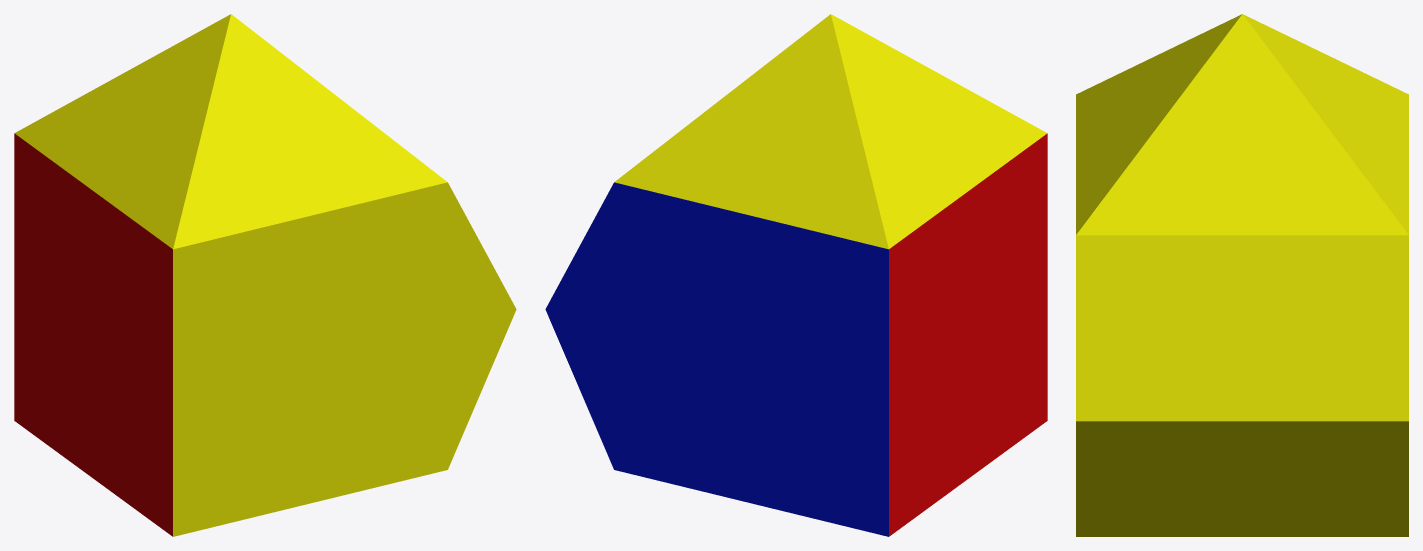
File: break1.glb
3 renders of one model, left to right at view 1: azimuth 30°, elevation 25°; view 2: azimuth 150°, elevation 25°; view 3: azimuth 270°, elevation 25°, orthographic. The views are drawn at different scales.
Visible parts, largest first — view 1: Cube; view 2: Cube; view 3: Cube.
Part boxes in pixels (x1,y1,x2,y2): Cube: (14,14,516,536); Cube: (545,14,1047,536); Cube: (1076,14,1408,536).
Bounding box in the file's own units: 2.5 × 3 × 2.
